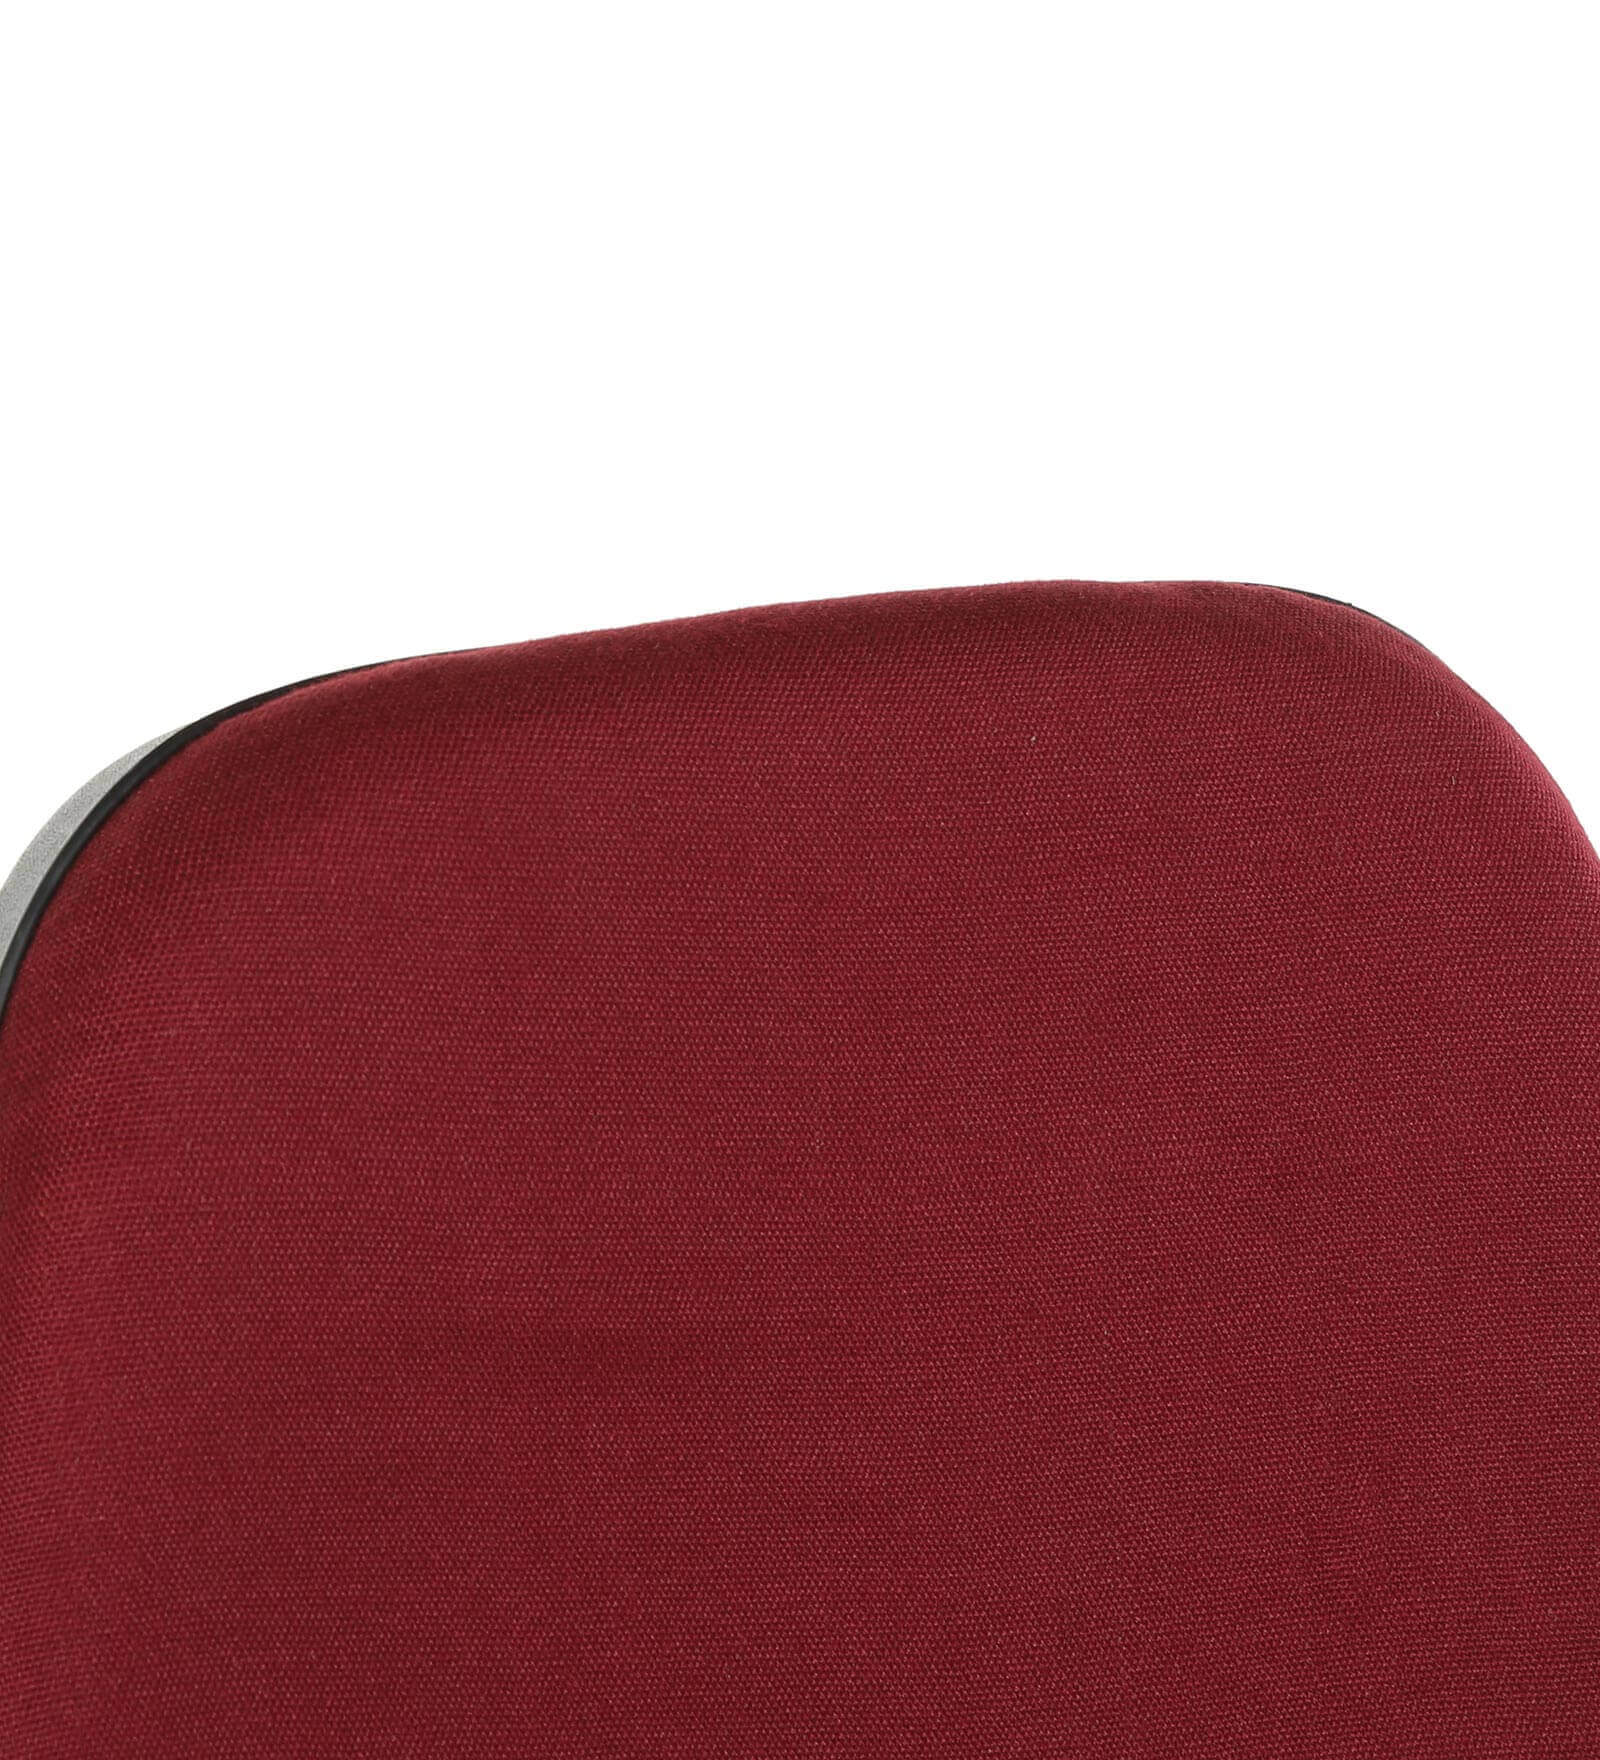Star Ergonomic Chair in Maroon Colour by Parin: (359, 763, 1281, 1564)
